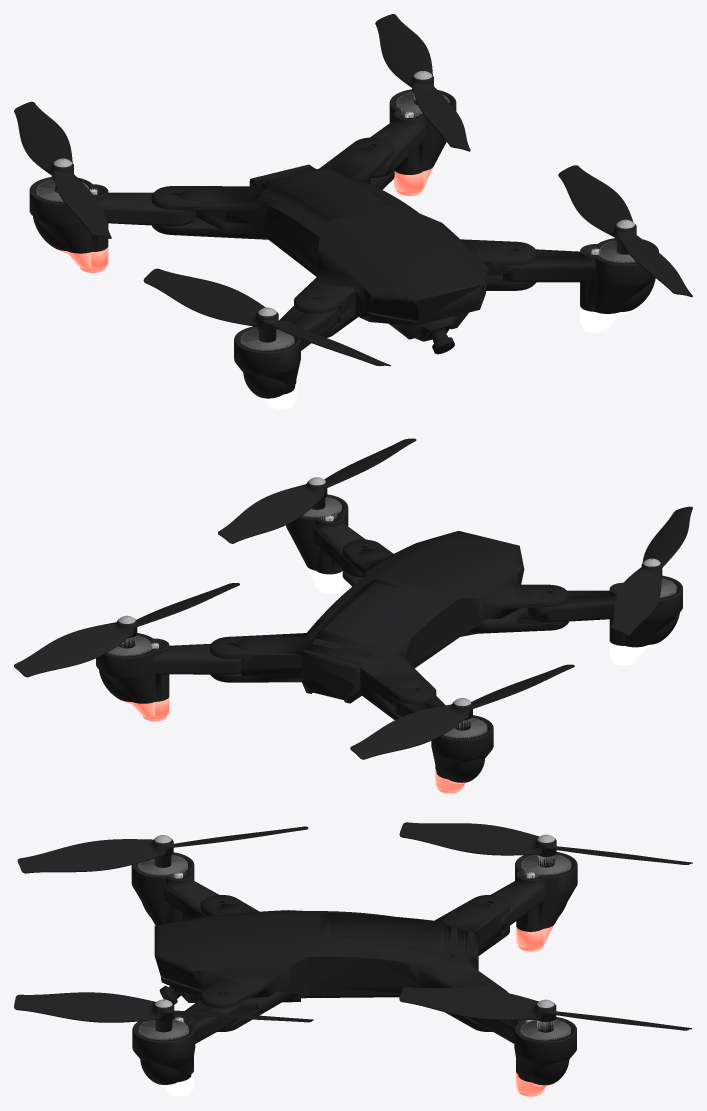
The picture shows the model from 3 angles, top to bottom: view 1: azimuth 30°, elevation 25°; view 2: azimuth 150°, elevation 25°; view 3: azimuth 270°, elevation 25°; orthographic projection. The views are drawn at different scales.
Visible parts, largest first — view 1: Carcaça de cima, Braço.002, Braço, Hélice frente esquerda, Carcaça de baixo, Hélice frente direita, Hélice trás esquerda, Hélice trás direita, Braço.001, Braço.003, Câmera, Engrenagem.001; view 2: Carcaça de cima, Braço.003, Carcaça de baixo, Braço.001, Hélice trás direita, Hélice trás esquerda, Hélice frente direita, Hélice frente esquerda, Braço.002, Braço; view 3: Carcaça de cima, Hélice frente direita, Hélice frente esquerda, Hélice trás direita, Hélice trás esquerda, Braço, Braço.002, Braço.003, Carcaça de baixo, Braço.001, Engrenagem.003, Engrenagem.002 (+2 smaller).
Boxes of the visible parts, box(x1,y1,x2,y2) form: Carcaça de cima: box(151, 137, 536, 320); Braço.002: box(503, 238, 658, 332); Braço: box(29, 177, 196, 272); Hélice frente esquerda: box(143, 268, 390, 366); Carcaça de baixo: box(152, 146, 536, 339); Hélice frente direita: box(558, 165, 692, 297); Hélice trás esquerda: box(14, 101, 111, 238); Hélice trás direita: box(375, 14, 470, 151); Braço.001: box(234, 306, 338, 409); Braço.003: box(370, 89, 456, 195); Câmera: box(415, 316, 456, 354); Engrenagem.001: box(240, 328, 294, 350); Carcaça de cima: box(210, 531, 569, 704); Braço.003: box(96, 633, 241, 721); Carcaça de baixo: box(210, 547, 568, 719); Braço.001: box(527, 575, 682, 665); Hélice trás direita: box(14, 583, 239, 677); Hélice trás esquerda: box(350, 664, 574, 759); Hélice frente direita: box(218, 438, 416, 543); Hélice frente esquerda: box(611, 506, 692, 635); Braço.002: box(286, 494, 365, 593); Braço: box(392, 696, 493, 793); Carcaça de cima: box(154, 895, 509, 1008); Hélice frente direita: box(14, 992, 313, 1032); Hélice frente esquerda: box(17, 826, 308, 873); Hélice trás direita: box(399, 987, 691, 1032); Hélice trás esquerda: box(399, 822, 692, 867); Braço: box(491, 852, 577, 951); Braço.002: box(132, 999, 242, 1096); Braço.003: box(470, 1017, 576, 1096); Carcaça de baixo: box(161, 903, 509, 1031); Braço.001: box(131, 852, 218, 925); Engrenagem.003: box(521, 854, 571, 877); Engrenagem.002: box(520, 1019, 570, 1040).
Bounding box in the file's own units: 0.2365 × 0.0535 × 0.3248.
